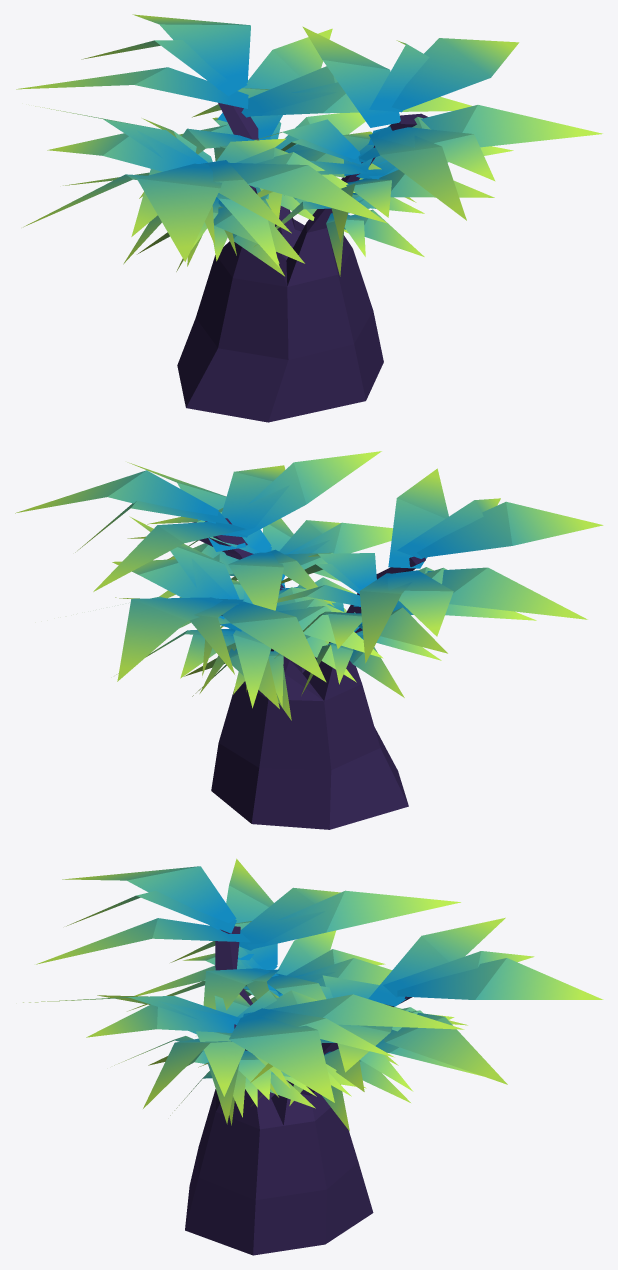
File: SM_Tree_B.fbx
3 views of the same model, one above another, from view 1: azimuth 30°, elevation 25°; view 2: azimuth 150°, elevation 25°; view 3: azimuth 270°, elevation 25° (orthographic). The views are drawn at different scales.
Parts seen in each view (by area): view 1: Master_Tree_Type2; view 2: Master_Tree_Type2; view 3: Master_Tree_Type2.
Part boxes in pixels (box(x1,y1,x2,y2)): Master_Tree_Type2: box(16, 14, 602, 422); Master_Tree_Type2: box(15, 451, 603, 829); Master_Tree_Type2: box(23, 858, 603, 1255).
Bounding box in the file's own units: 596 × 619 × 298.
